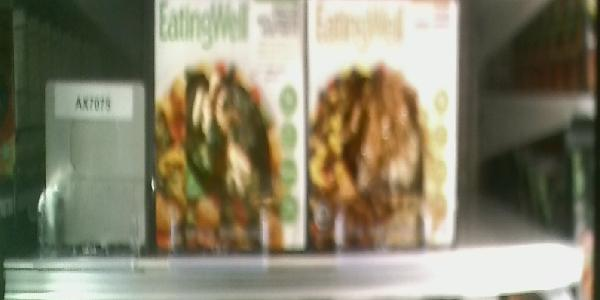pizza1: (156, 1, 304, 254), (309, 1, 456, 252)
